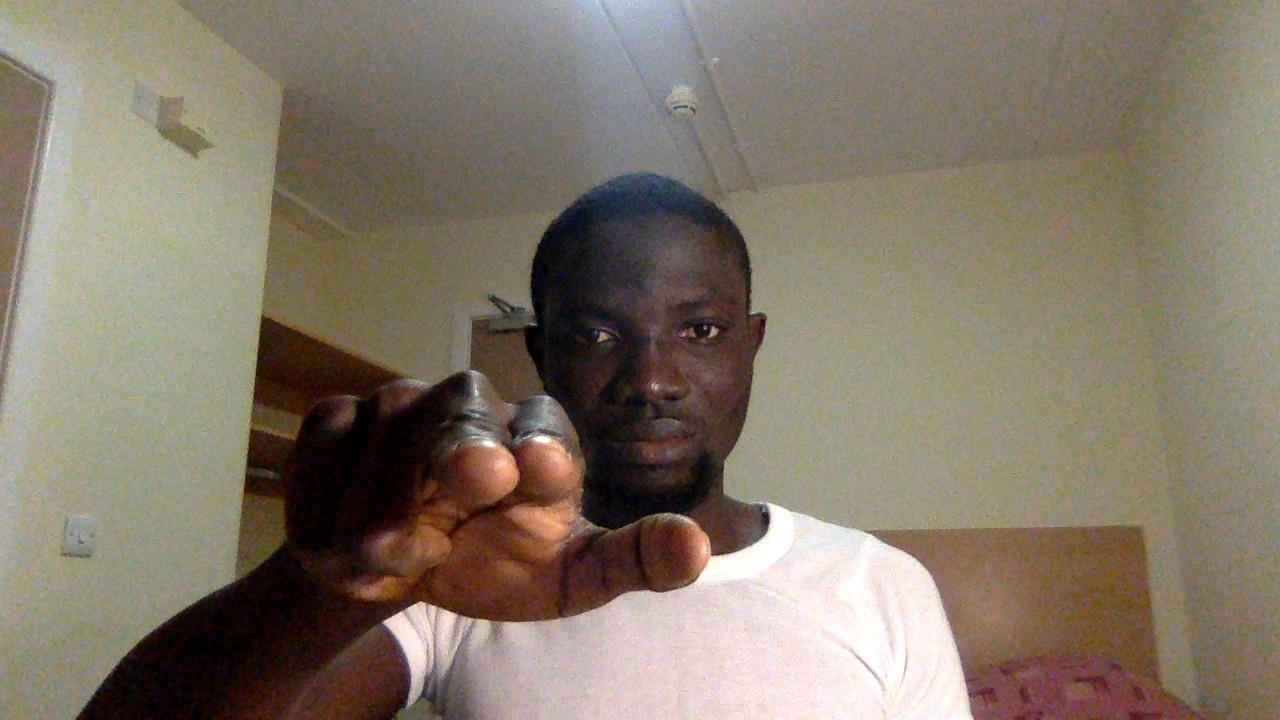No: (282, 365, 721, 626)
